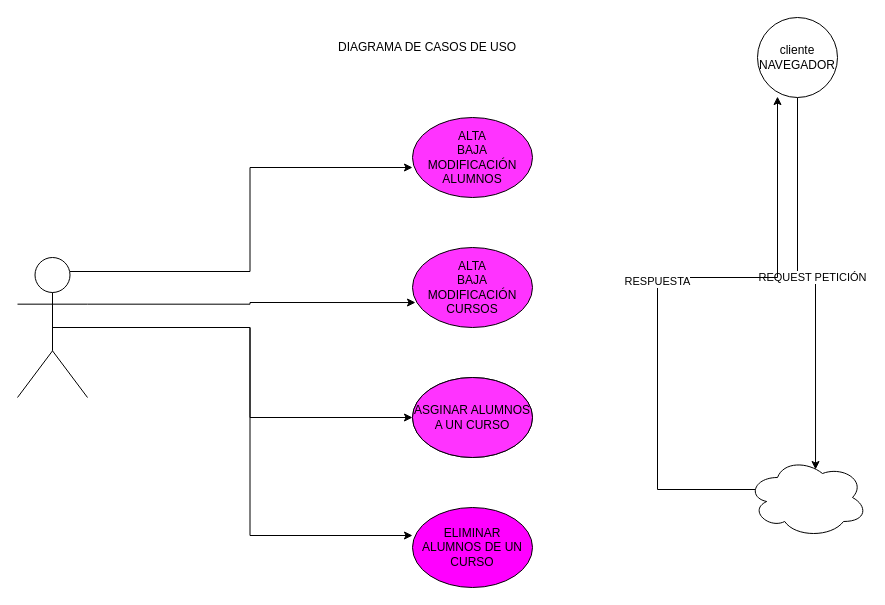
The diagram is 885 pixels wide and 605 high, and some of its shapes have lost their labels. The shapes that lost their labels are listed below. From the top down, each one's centre as x and y in pixels, then its label:
the point at 52,327: Actor
the point at 807,497: microservicio alumnos
